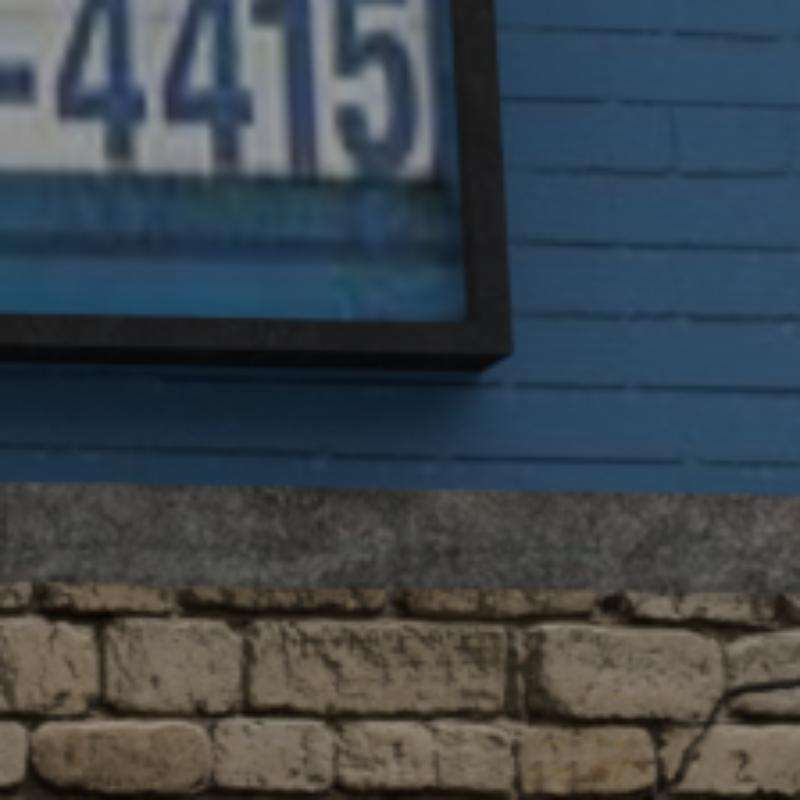pothole: (643, 679, 796, 796)
